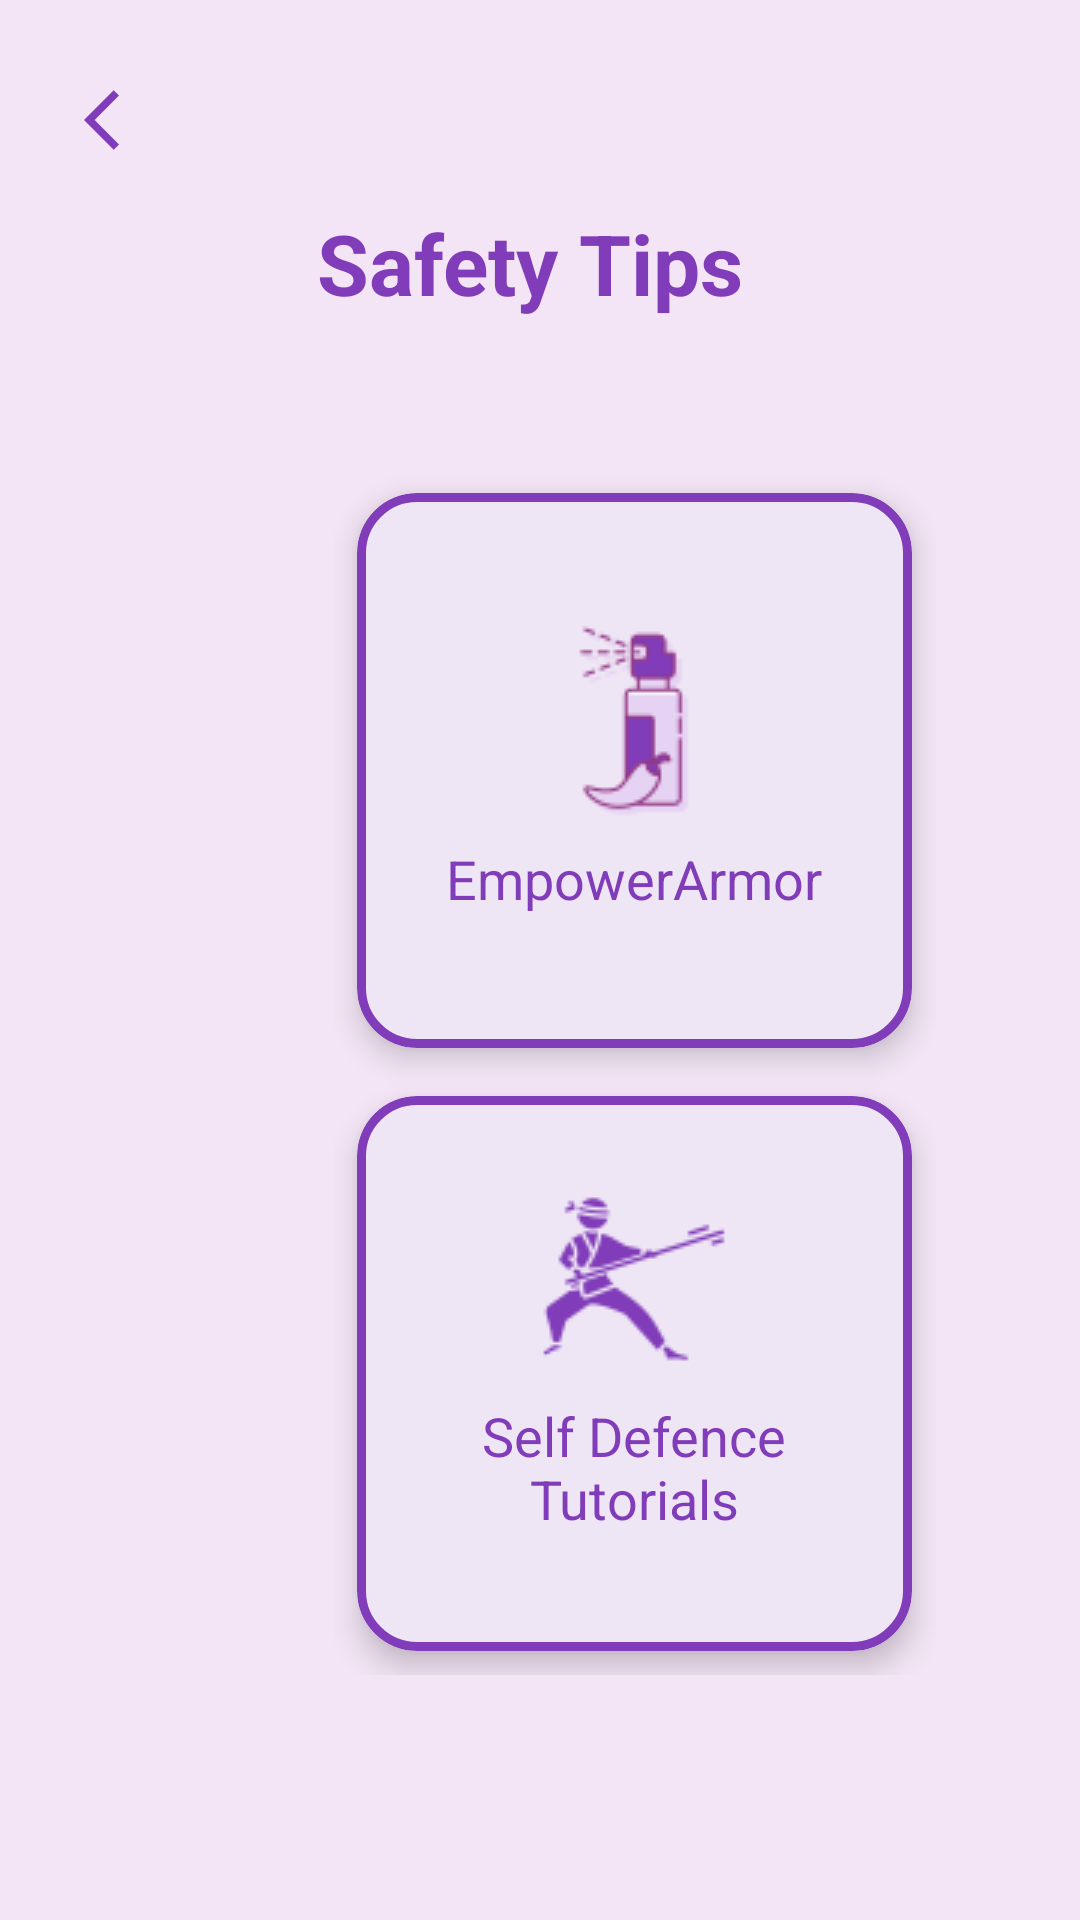

Where to tap for icons on this 1080x1920 app screen, as (x=x, y=y):
back to home page: (x=101, y=120)
defence tools: (x=631, y=718)
